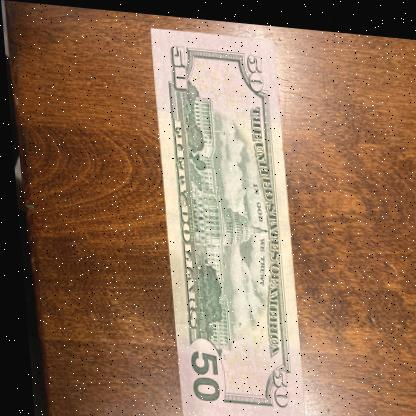fifty-back: (148, 23, 299, 416)
